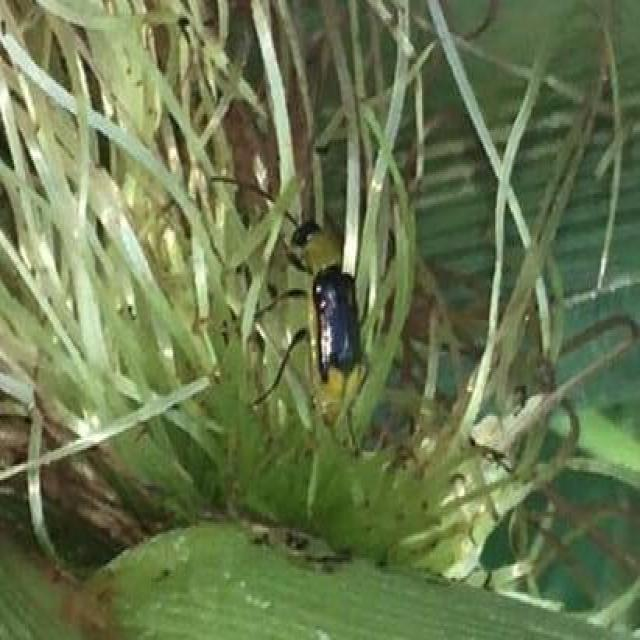trips: (213, 174, 364, 452)
